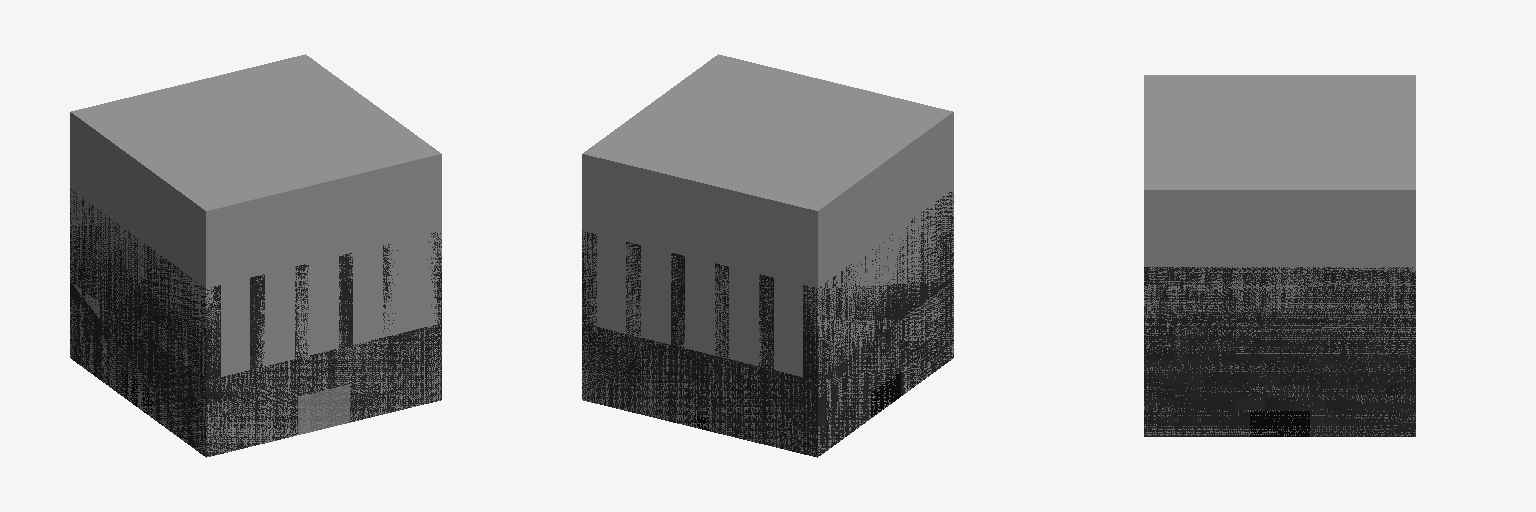
3 views of the same model, side by side, from view 1: azimuth 30°, elevation 25°; view 2: azimuth 150°, elevation 25°; view 3: azimuth 270°, elevation 25° (orthographic).
Parts seen in each view (by area): view 1: Minecraft_Block_Cube, main; view 2: Minecraft_Block_Cube, main; view 3: Minecraft_Block_Cube, main.
Part boxes in pixels (x1,y1,x2,y2): Minecraft_Block_Cube: (70,54,441,457); main: (70,189,441,456); Minecraft_Block_Cube: (582,54,953,456); main: (582,192,953,457); Minecraft_Block_Cube: (1144,75,1415,436); main: (1144,267,1415,436).
Bounding box in the file's own units: 1 × 1 × 1.
2 materials, 1 textured.